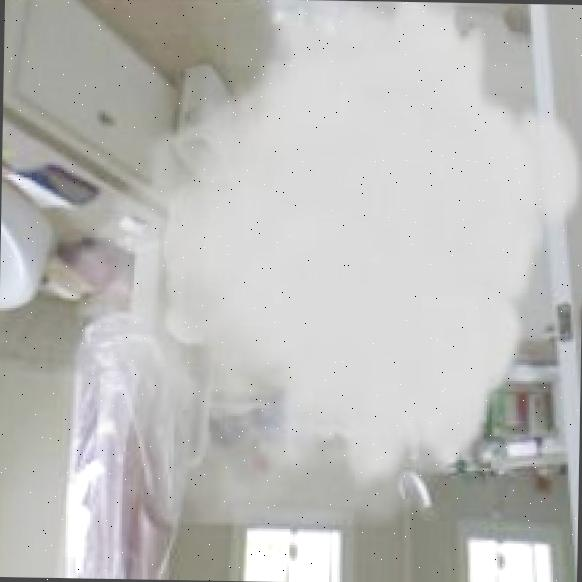smoke: (38, 0, 582, 532)
